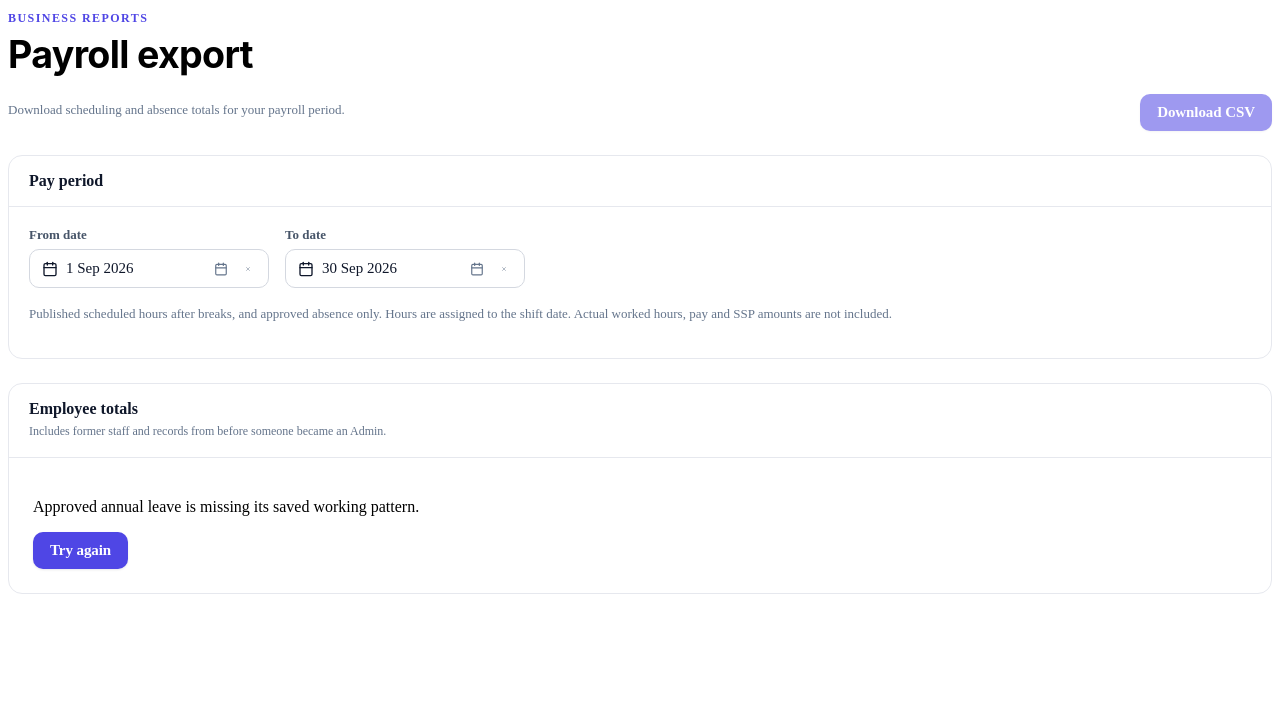
Test: shows actionable data errors, with retry and no export
Expected: the text "Approved annual leave is missing its saved working pattern." is shown, [33,498,419,515]
Expected: the button "Download CSV" is disabled, [1140,94,1272,131]
Click the button "Try again". click: (81, 550)
box: [33,532,128,569]
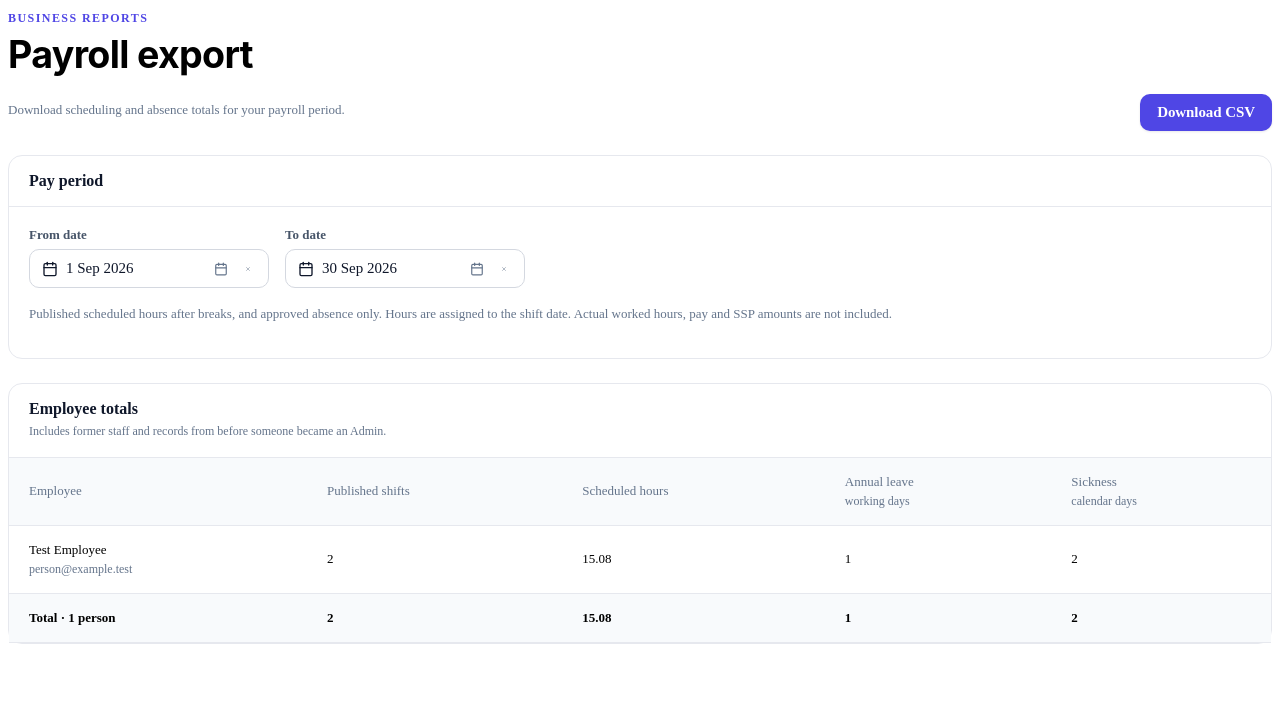
Expected: the text "Test Employee" is shown, [29,542,106,557]
